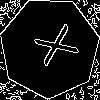X: (25, 23, 80, 72)
